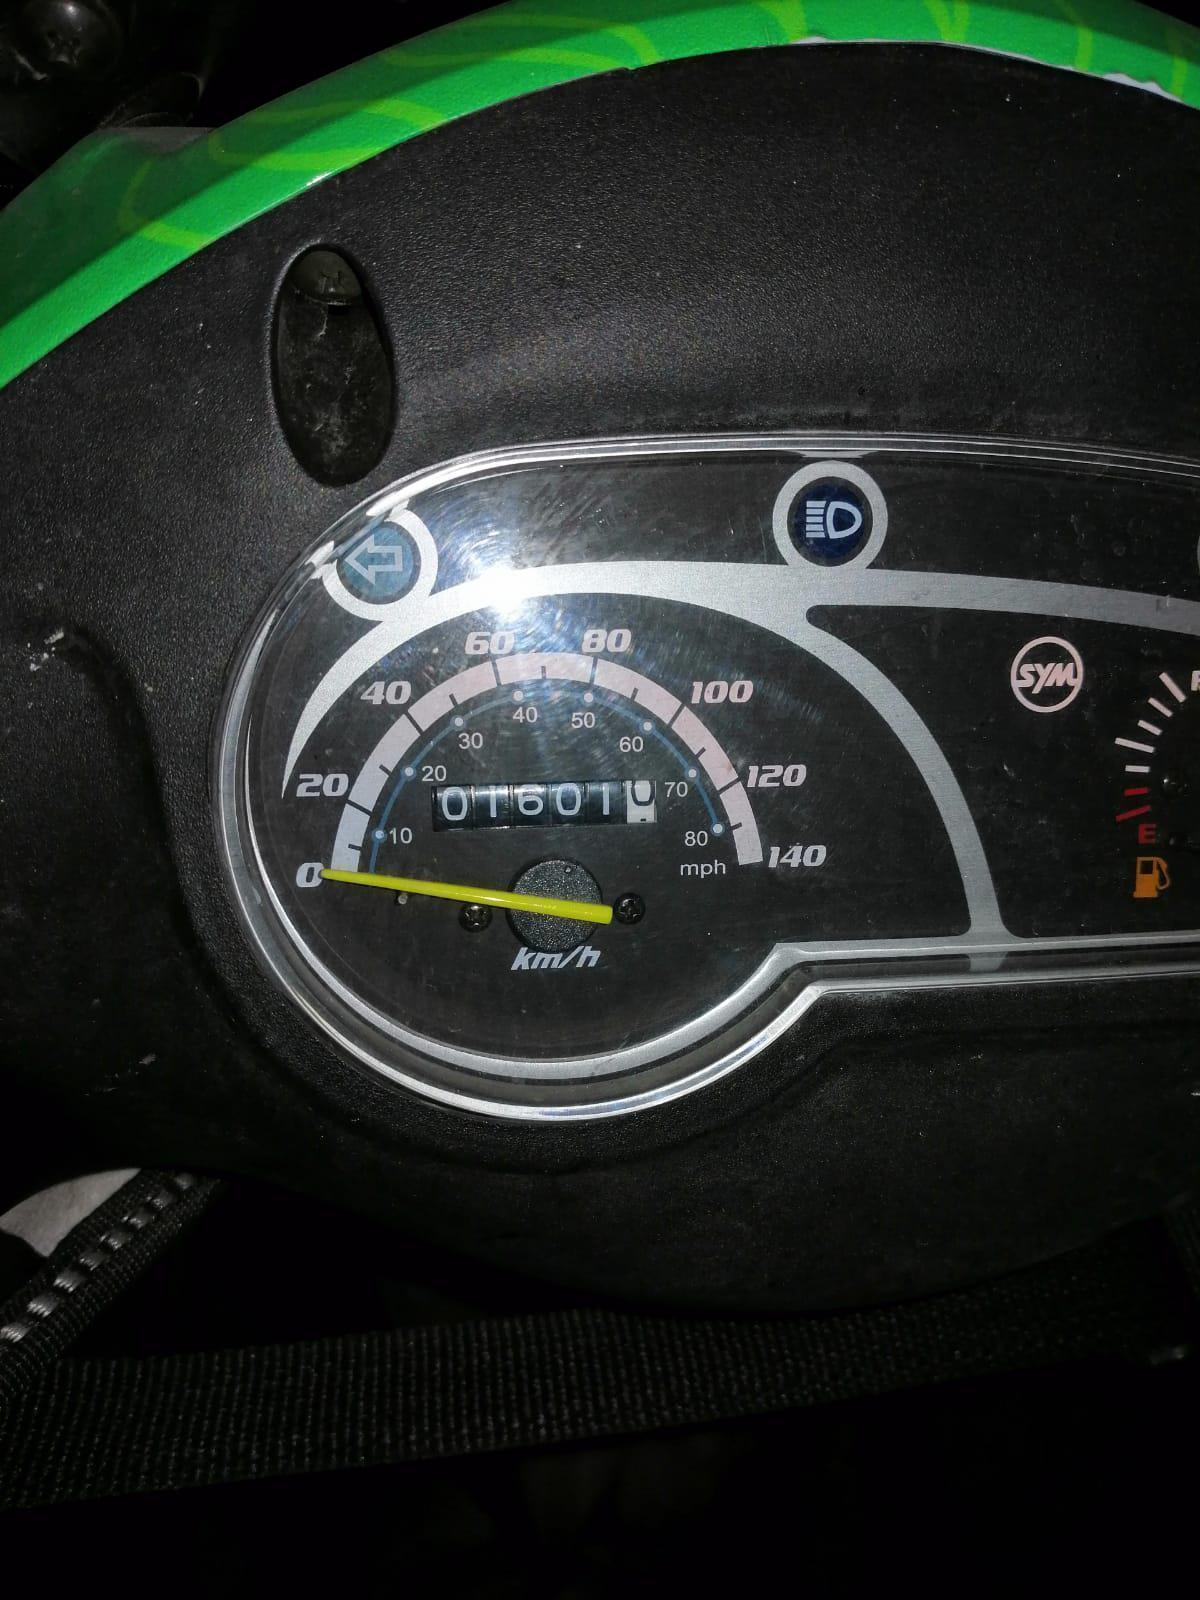0: (440, 786, 468, 821), (555, 781, 581, 815), (632, 777, 655, 808), (434, 762, 447, 781)
1: (595, 777, 614, 816), (485, 782, 502, 820)
6: (516, 780, 546, 815)
odometer: (431, 767, 663, 837)
